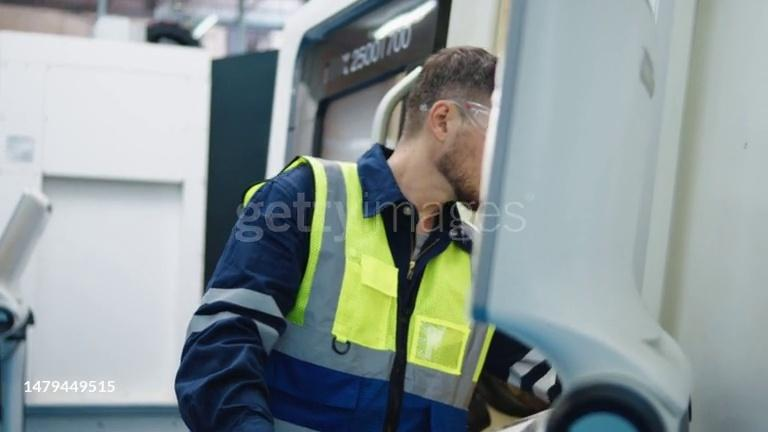person: (174, 45, 560, 432)
